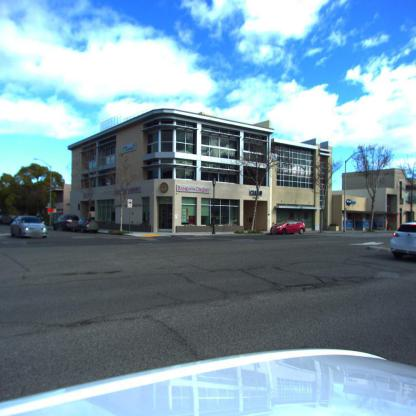car: (390, 222, 416, 263), (10, 216, 48, 239), (270, 219, 306, 234), (53, 214, 82, 232), (80, 219, 99, 234), (1, 215, 14, 225)
